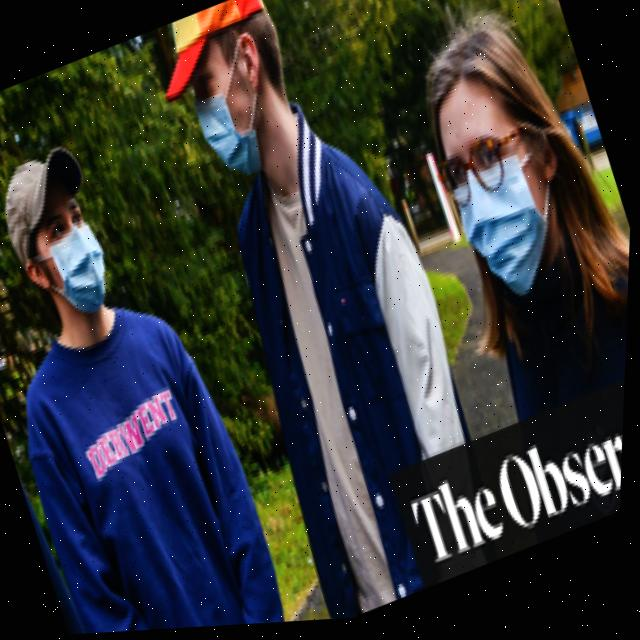Mask: (440, 125, 599, 317), (170, 27, 298, 199), (17, 216, 126, 336)
